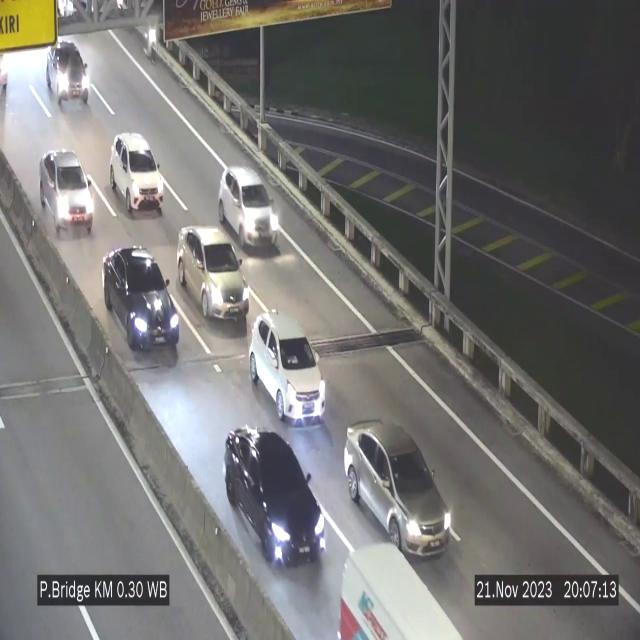Car: (224, 425, 332, 575), (344, 421, 451, 556), (98, 242, 190, 368), (250, 314, 326, 421), (176, 225, 248, 319), (218, 166, 280, 251), (40, 149, 94, 233), (110, 133, 163, 215), (44, 36, 92, 106)
Motorcycle: (143, 24, 159, 72)
Truck: (330, 538, 469, 640)
